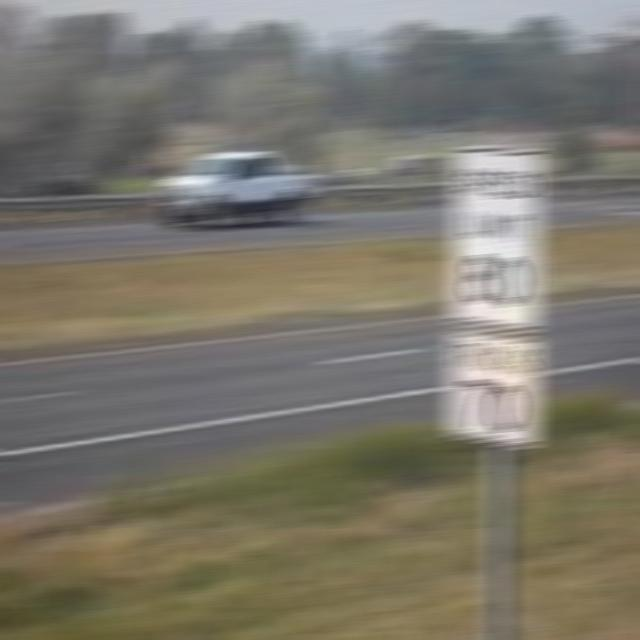speedLimit80: (446, 140, 544, 442)
